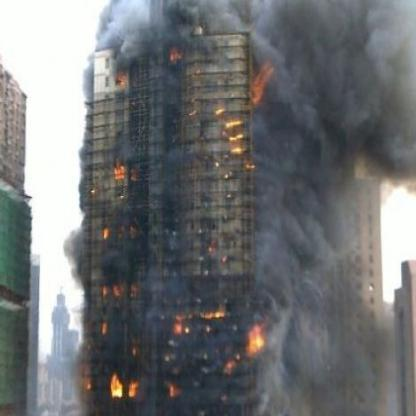fire: (246, 326, 262, 356), (110, 371, 122, 398), (113, 163, 123, 178), (127, 381, 136, 397)
